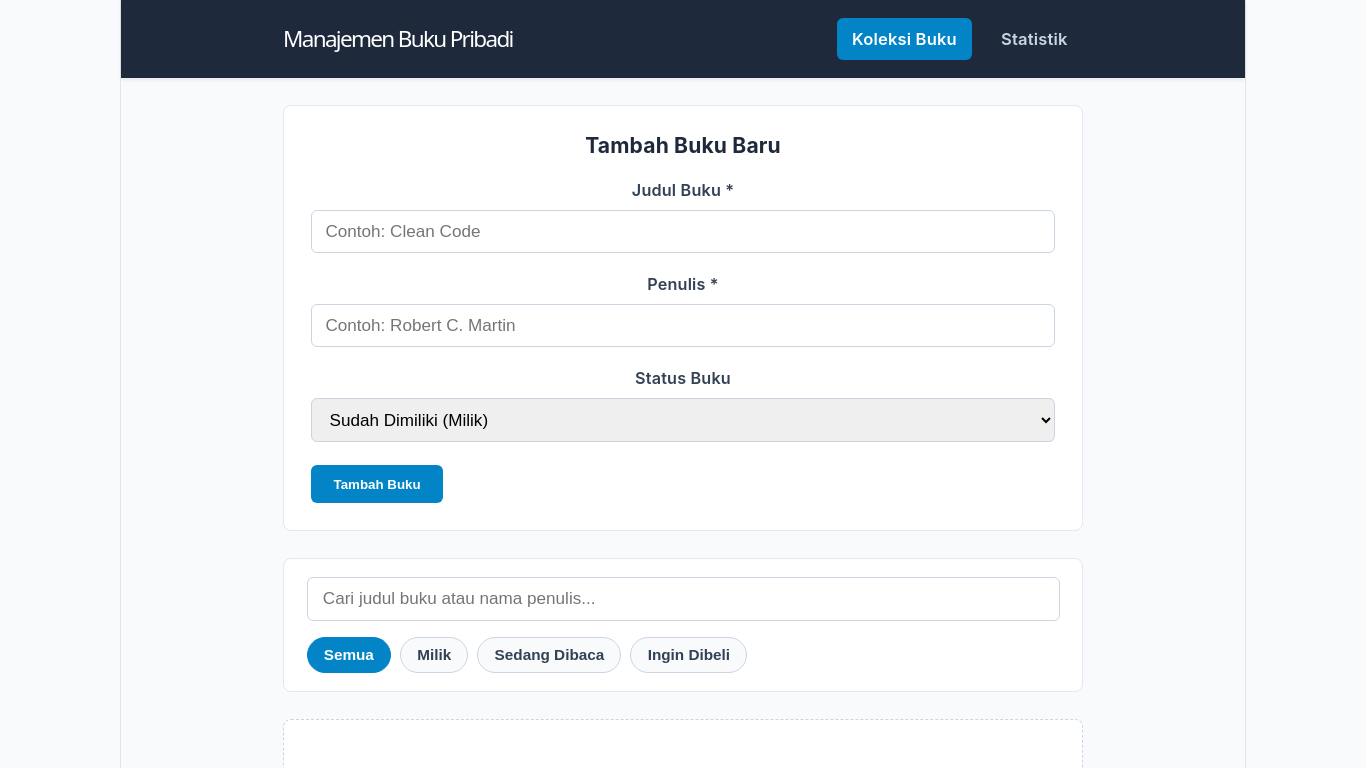
Aplikasi Manajemen Buku Pribadi › 1. Menampilkan pesan error validasi jika form disubmit dalam keadaan kosong
Step 1. Click the button "Tambah Buku" → (377, 484), box [311,465,443,503]
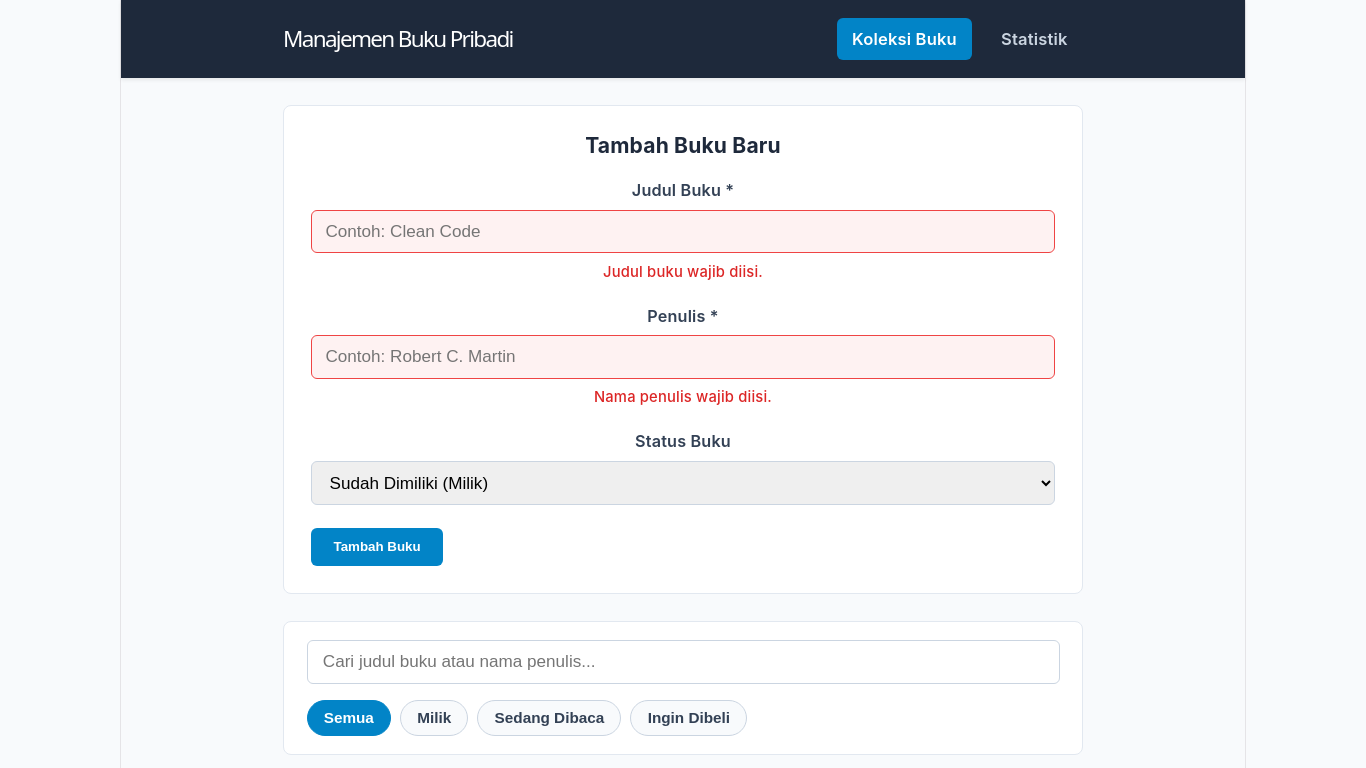
expect the text "Judul buku wajib diisi." is shown: met, box [603,263,763,281]
expect the text "Nama penulis wajib diisi." is shown: met, box [594,388,772,406]
